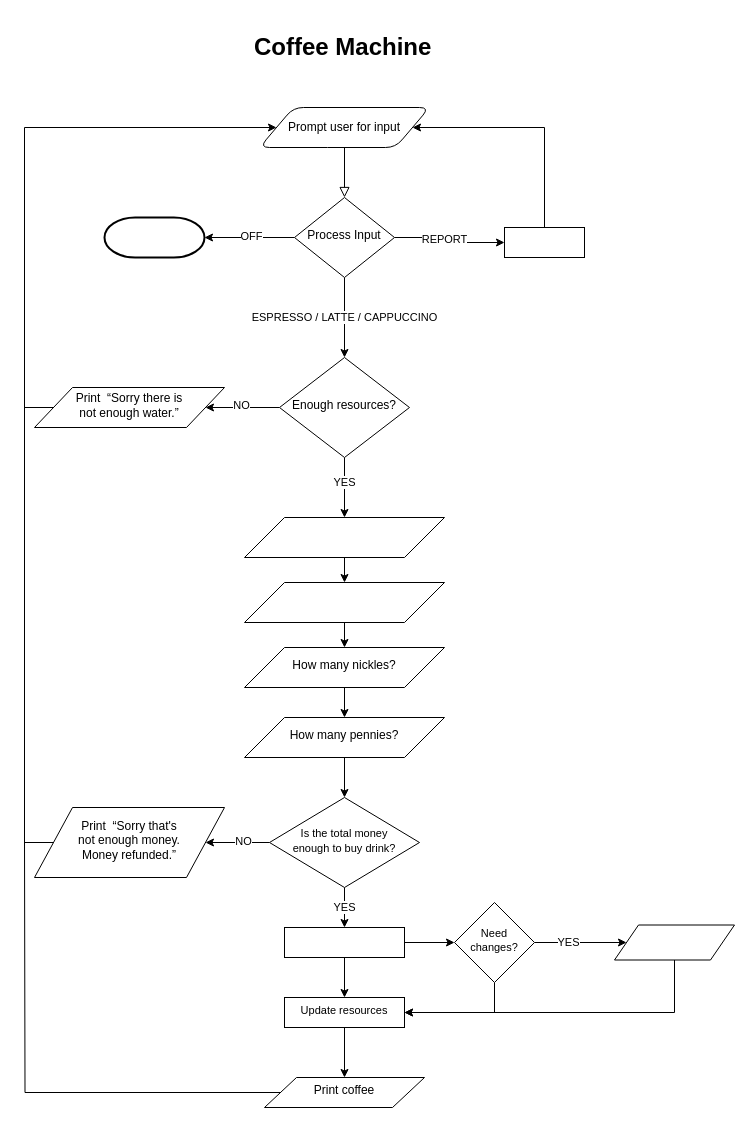
Image size: 752x1125. Some labels were removed from this diagram. The centre of each missing label's shape, as x and y in pixels:
"Add to profit" goes at point (344, 942).
"Exit program" goes at point (154, 237).
"How many dimes?" goes at point (344, 602).
"How many quaters?" goes at point (344, 537).
"Print changes" goes at point (674, 942).
"Print report" goes at point (544, 242).
